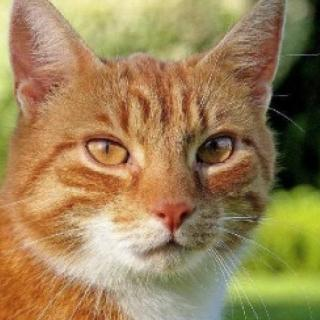cat: (7, 0, 276, 282)
nose: (148, 173, 195, 234)
